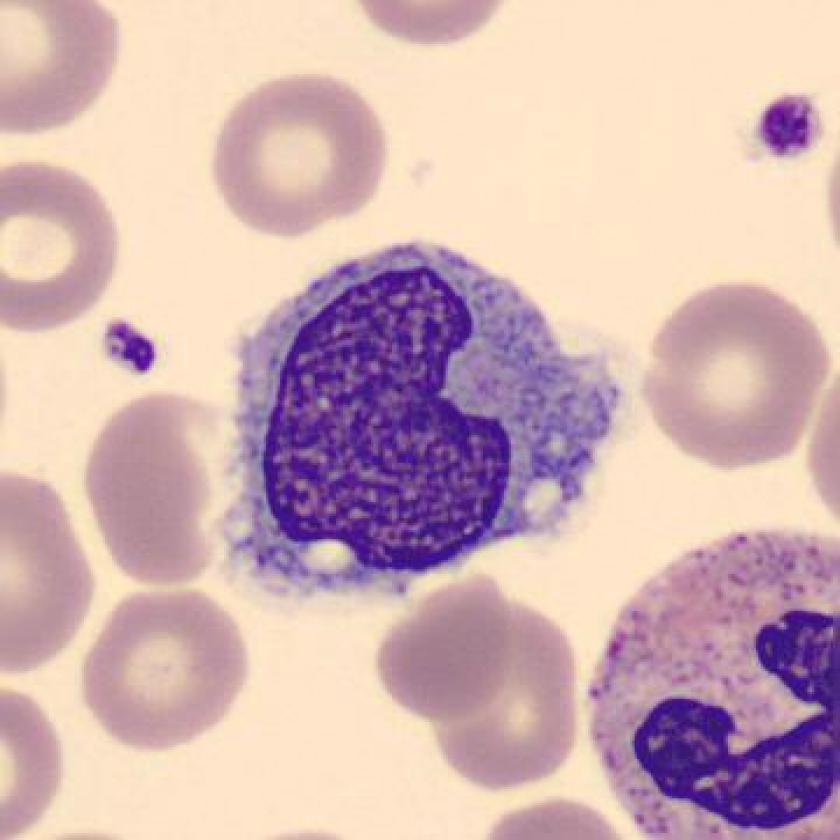monocyte: (192, 221, 645, 630)
